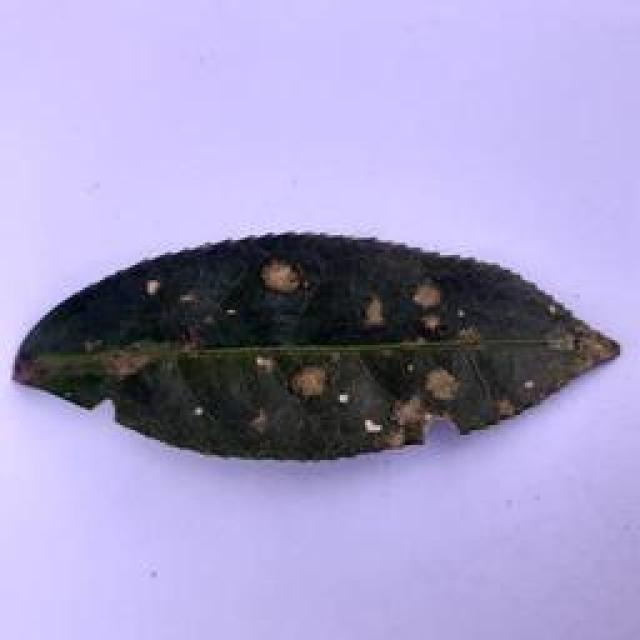Algal Leaf Spot: (6, 218, 626, 466)
